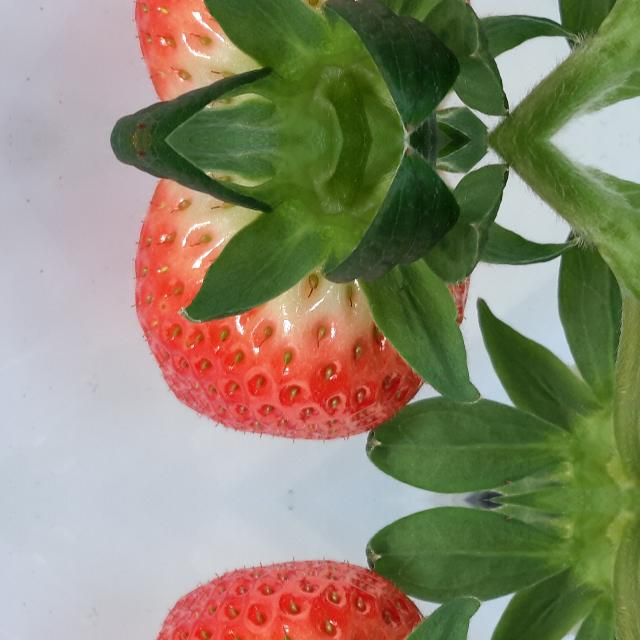Health_100: (132, 169, 470, 443), (131, 0, 470, 111), (131, 557, 470, 640)
